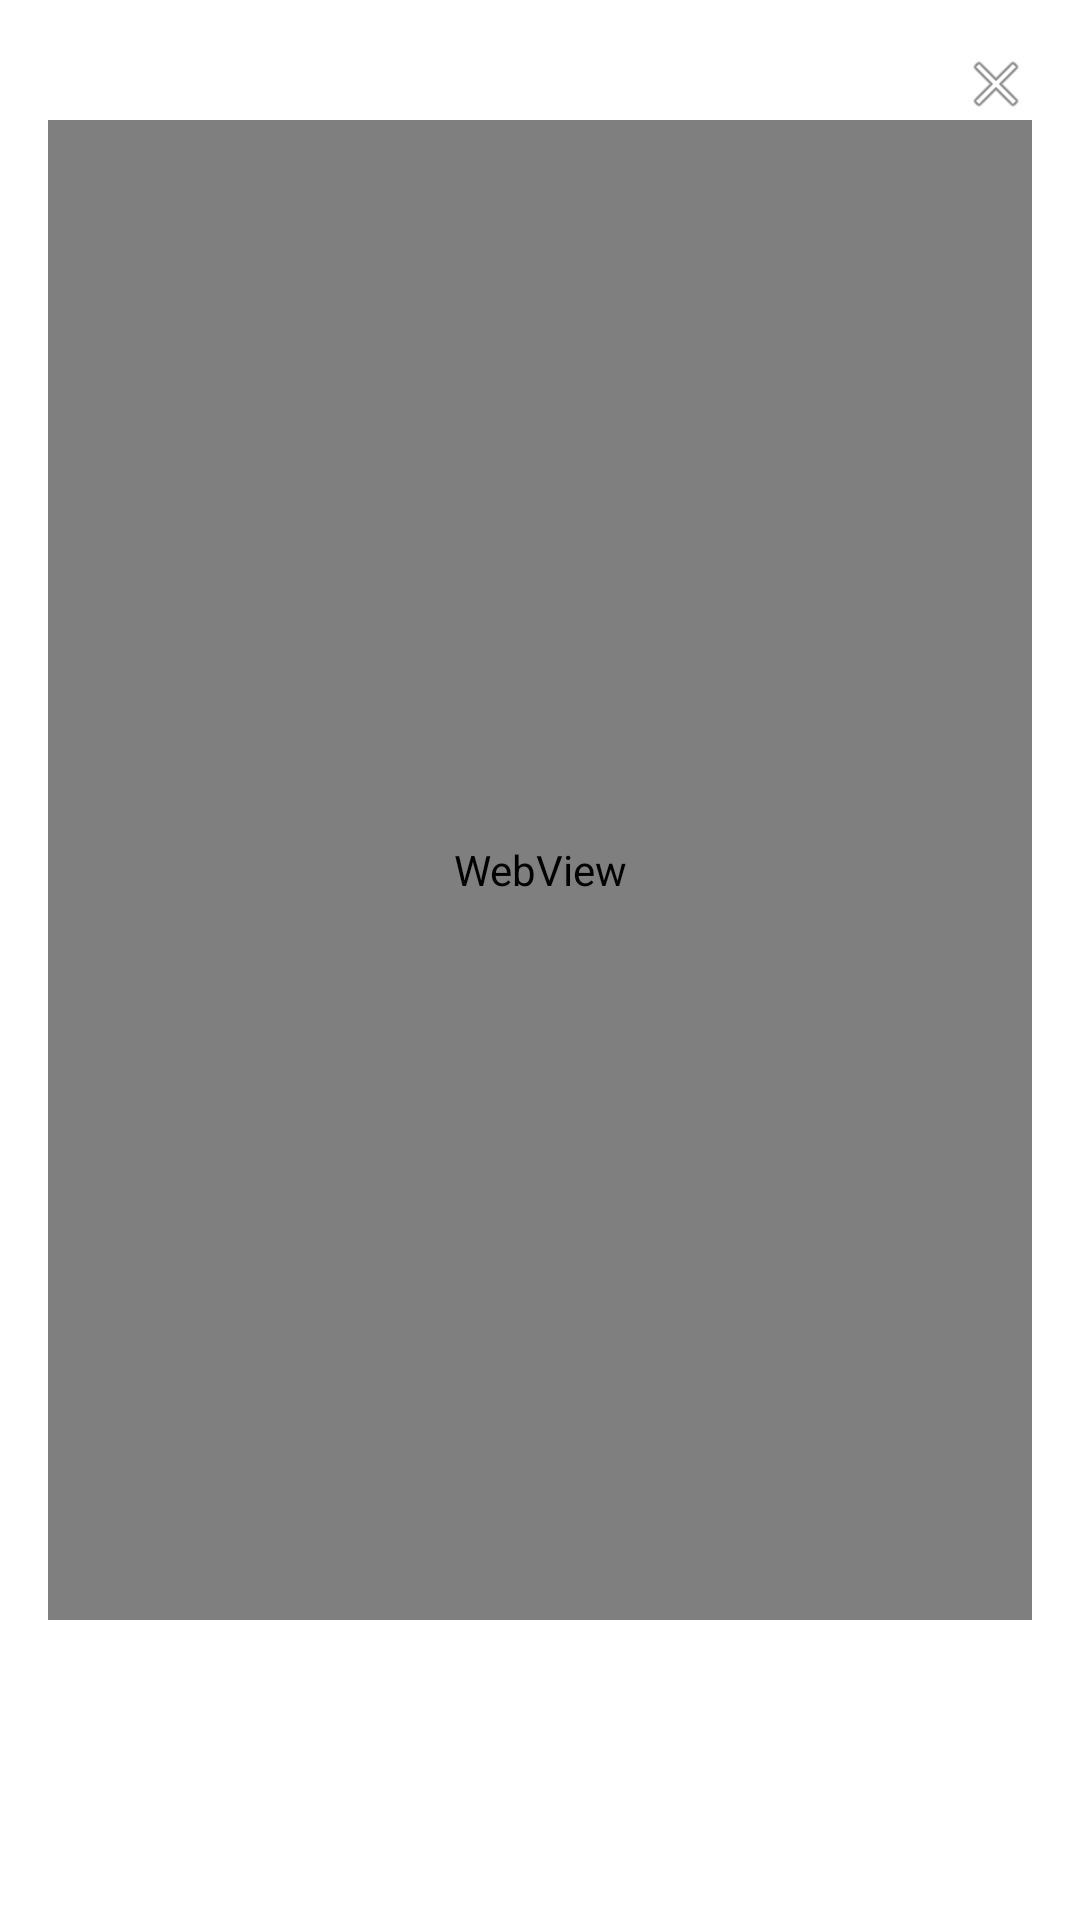

Named icons in this screenshot (1080 x 1920) and their centers, (x,y):
Close: (996,84)
